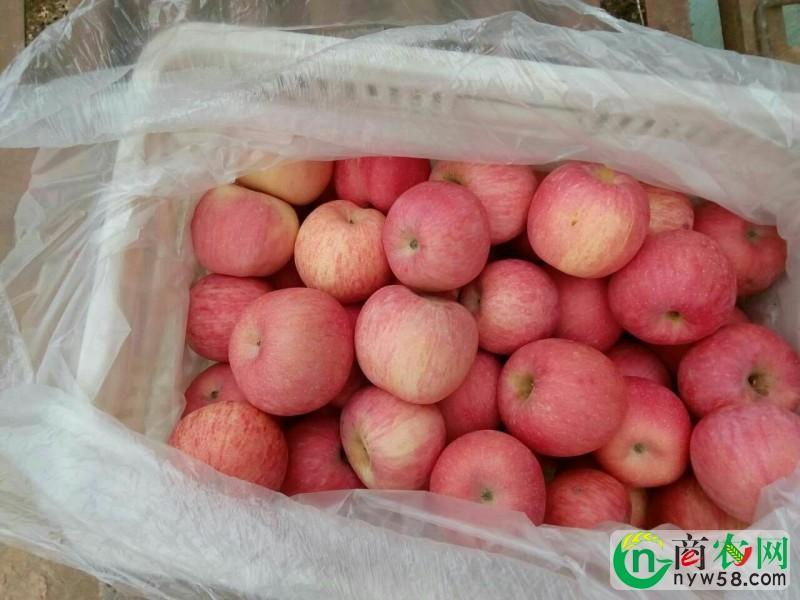apple: (226, 285, 354, 417), (353, 278, 480, 405), (523, 160, 648, 276), (606, 233, 731, 349), (500, 341, 625, 457), (685, 401, 800, 525), (384, 180, 494, 290), (165, 394, 285, 494), (593, 372, 692, 488), (680, 324, 796, 420), (429, 430, 547, 524), (337, 394, 455, 488), (189, 182, 297, 279), (295, 197, 391, 297), (465, 258, 557, 355), (693, 204, 787, 298), (329, 155, 429, 214), (643, 187, 692, 235)
